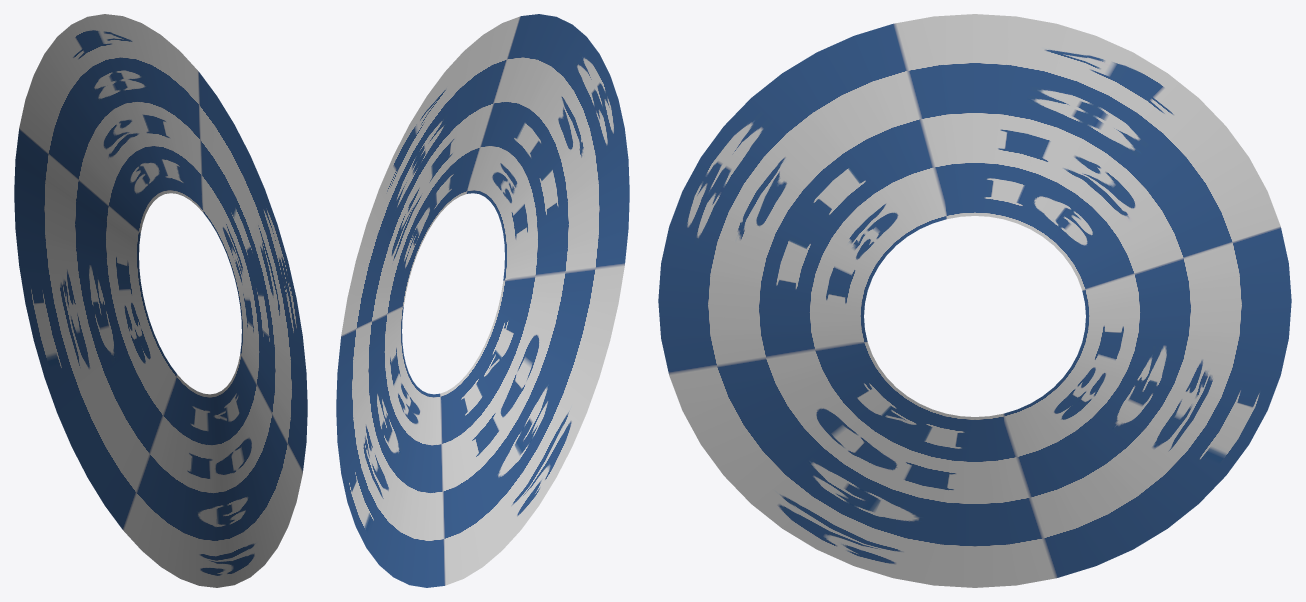
Rendered from Akaza_Ring3.fbx.
The picture shows the model from 3 angles, left to right: view 1: azimuth 30°, elevation 25°; view 2: azimuth 150°, elevation 25°; view 3: azimuth 270°, elevation 25°; orthographic projection. The views are drawn at different scales.
Visible parts, largest first — view 1: SM_e_Plc_P1012_Ring003; view 2: SM_e_Plc_P1012_Ring003; view 3: SM_e_Plc_P1012_Ring003.
Part boxes in pixels (x1=…): SM_e_Plc_P1012_Ring003: x1=14, y1=14, x2=307, y2=587; SM_e_Plc_P1012_Ring003: x1=336, y1=14, x2=629, y2=587; SM_e_Plc_P1012_Ring003: x1=658, y1=14, x2=1291, y2=587.
Size of the model in its own units: 5.74 by 99.15 by 99.15.
